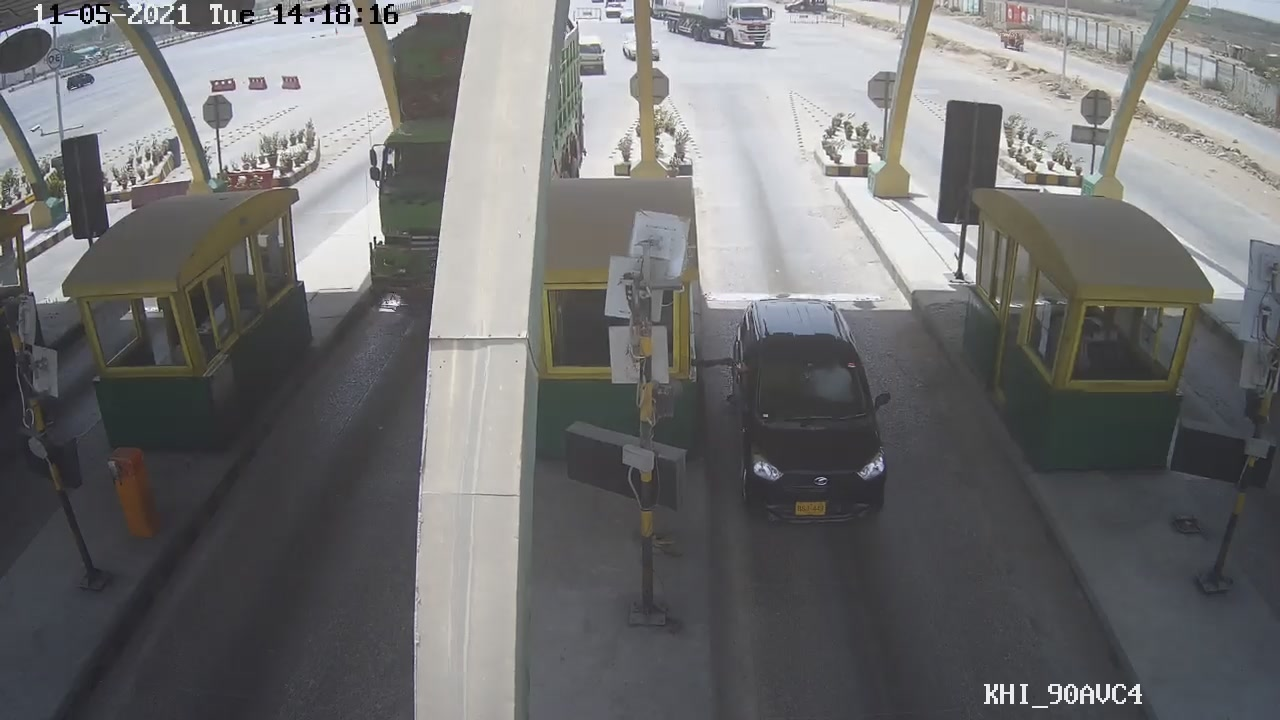F1: (726, 293, 903, 533)
